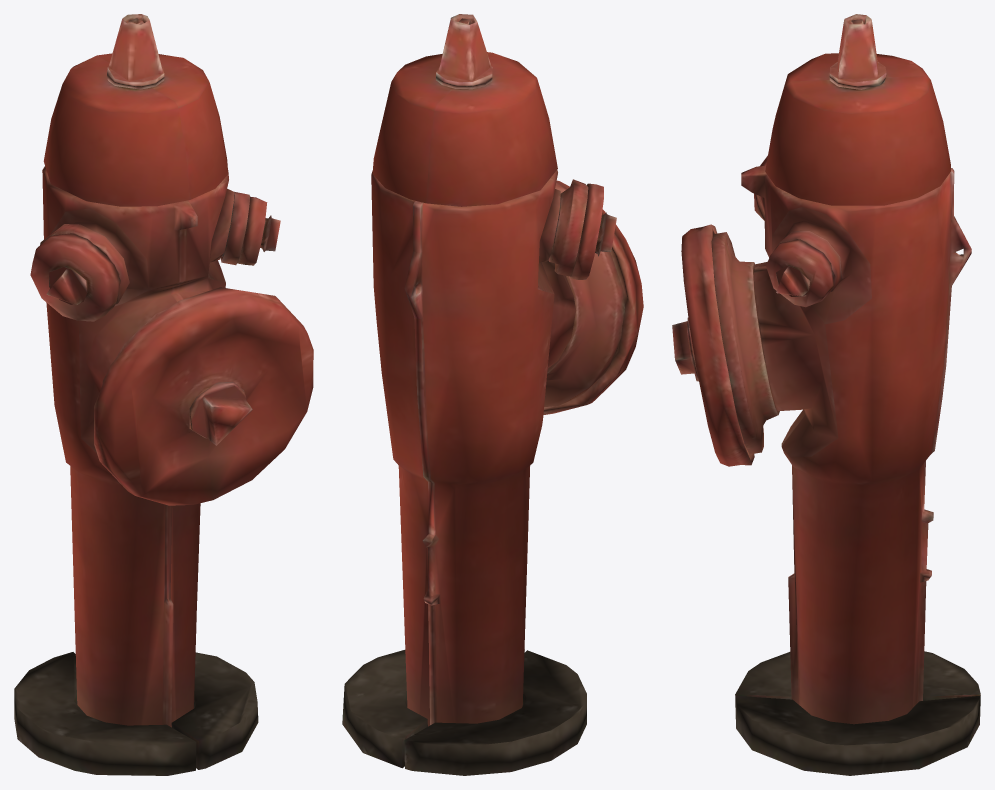
File: fire_hydrant.glb
The picture shows the model from 3 angles, left to right: view 1: azimuth 30°, elevation 25°; view 2: azimuth 150°, elevation 25°; view 3: azimuth 270°, elevation 25°; orthographic projection.
Visible parts, largest first — view 1: fire_hydrant; view 2: fire_hydrant; view 3: fire_hydrant.
Part boxes in pixels (x1,y1,x2,y2): fire_hydrant: (14, 14, 313, 775); fire_hydrant: (342, 14, 643, 775); fire_hydrant: (672, 14, 980, 775).
Bounding box in the file's own units: 0.2728 × 0.7992 × 0.3173.
Materials: 1 (1 with a texture image).
